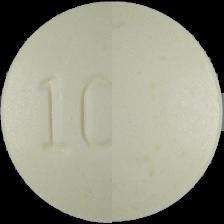50268-526: (0, 0, 224, 224)
